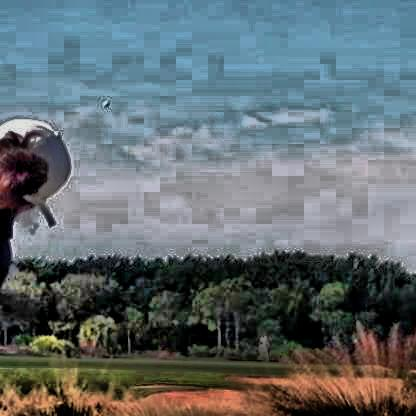golfball: (99, 98, 107, 105)
